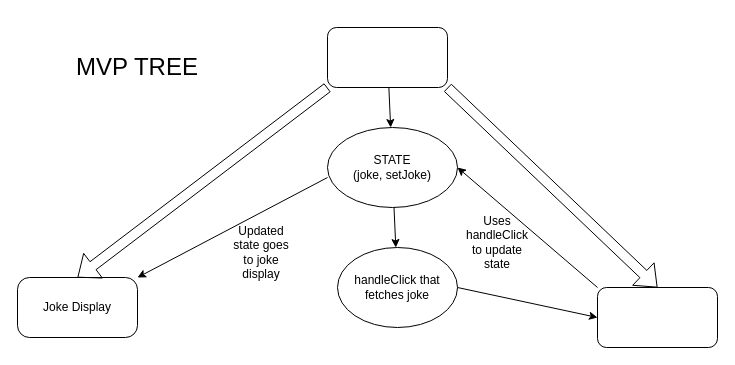
Some shapes in this 735 by 365 pixel diagram are drawn without their labels. The centre of each missing label's shape, as x and y in pixels:
APP: (x=387, y=57)
Button (generates random joke): (x=657, y=317)
